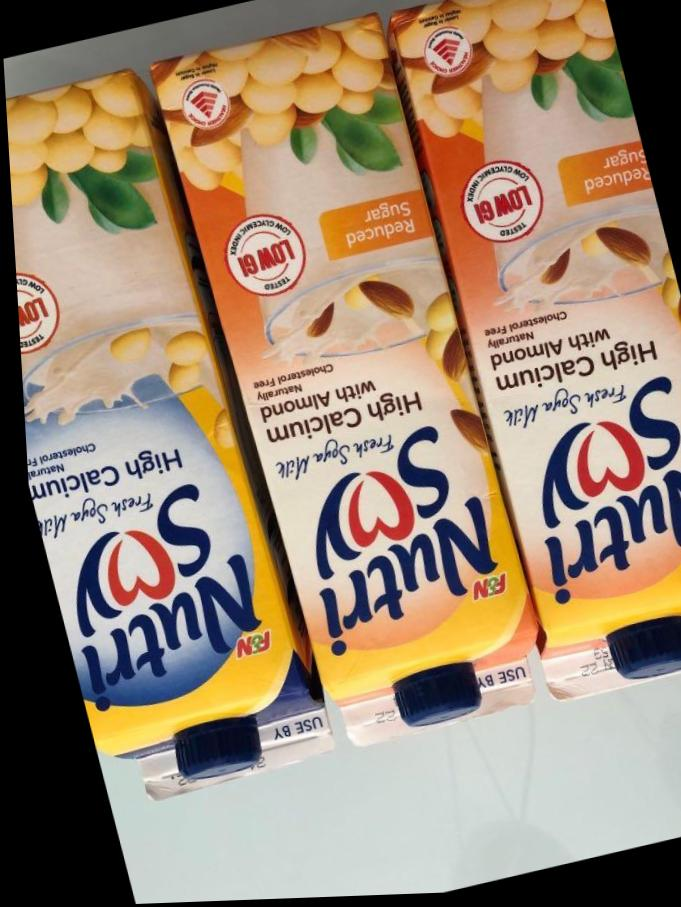cardboard: (153, 0, 614, 767), (7, 40, 343, 796), (391, 0, 680, 697)
